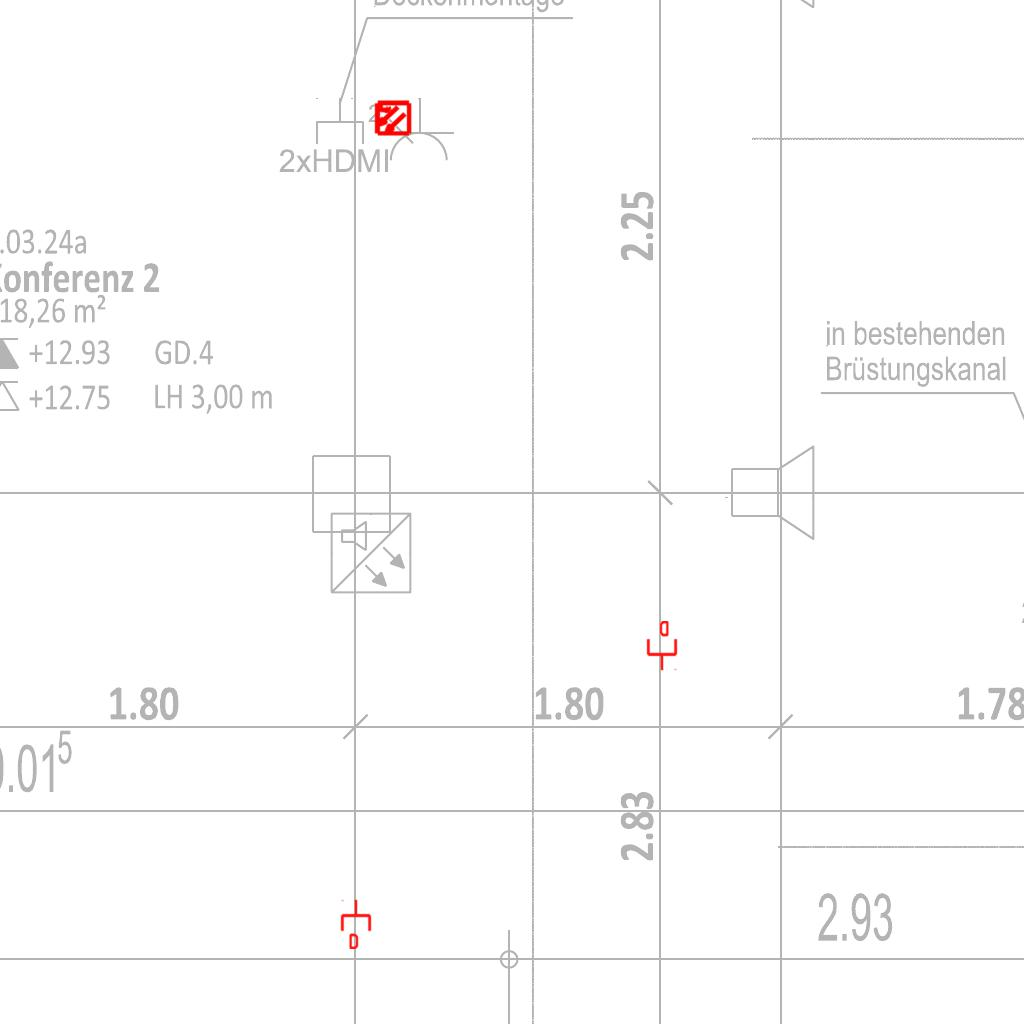Datenanschluss_einfach: (645, 621, 679, 671), (339, 899, 373, 949)
OT_Multisensormelder_(Kombination_RMO_WMD): (364, 90, 420, 146)
